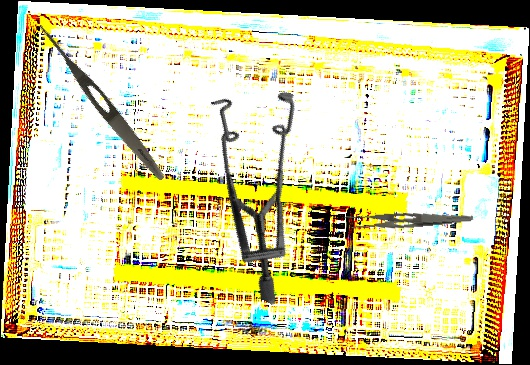Dressing Forceps: (32, 20, 170, 185), (343, 201, 474, 235)
Speculum: (139, 61, 369, 307)
